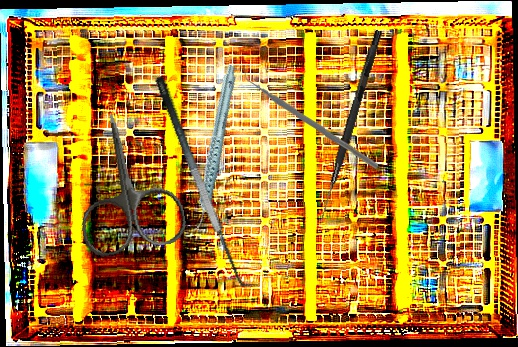Chopper: (240, 63, 382, 170)
Handpiece: (157, 63, 269, 234)
Hook Surgical: (318, 28, 383, 222)
Iris Scissors: (61, 104, 190, 260)
Spatula Surgical: (152, 68, 261, 297)
